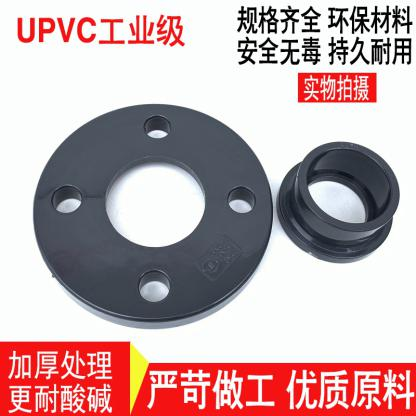FOD: (32, 99, 276, 328)
